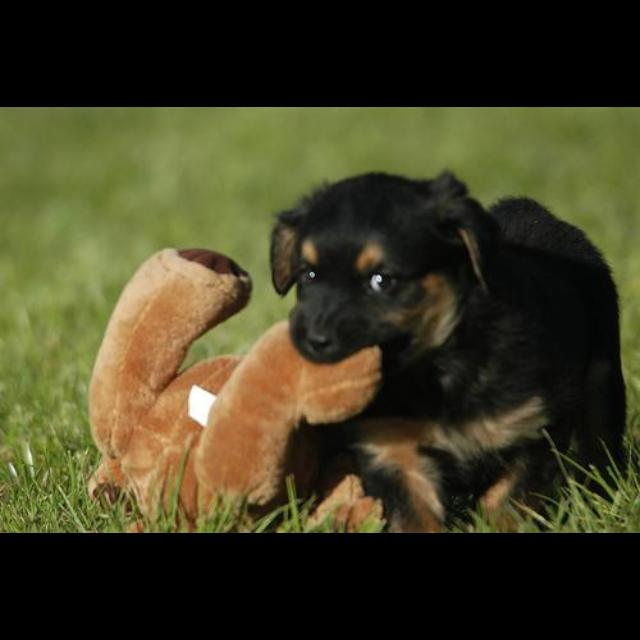rottweiler: (269, 169, 628, 533)
